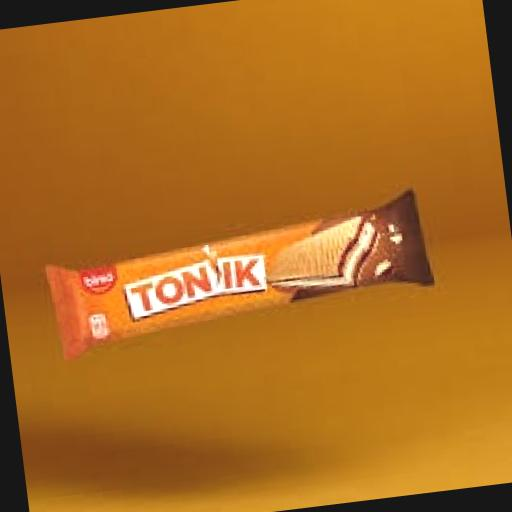tonik: (24, 167, 470, 416)
